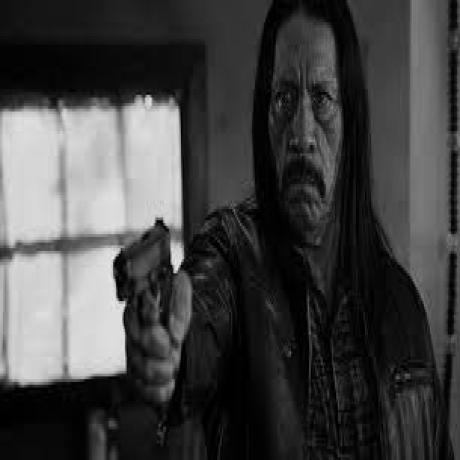Guns: (112, 218, 192, 404)
